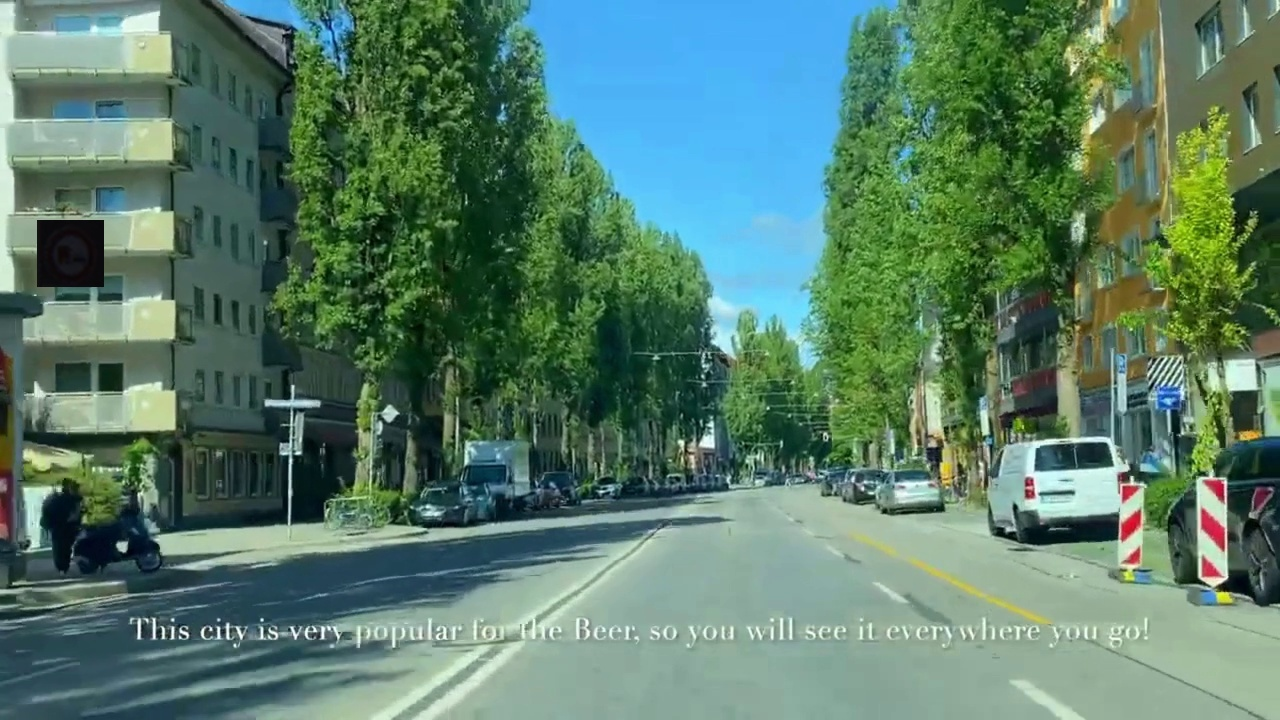No pass >3.5t: (37, 220, 104, 287)
